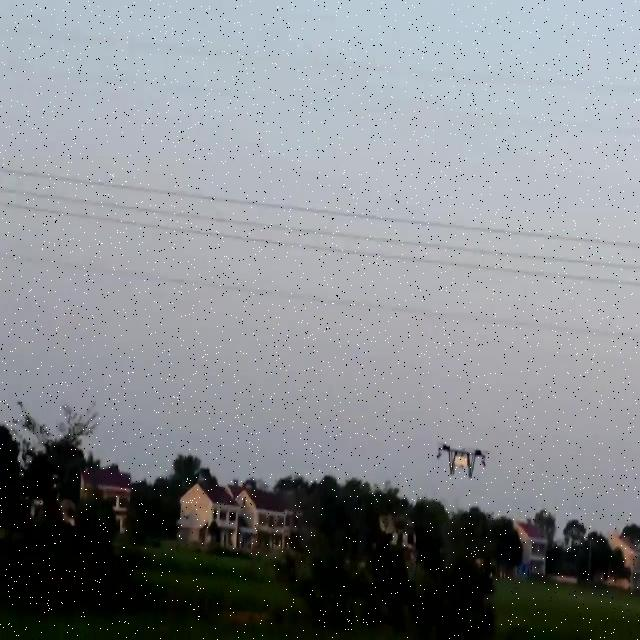UAV: (436, 441, 488, 480)
